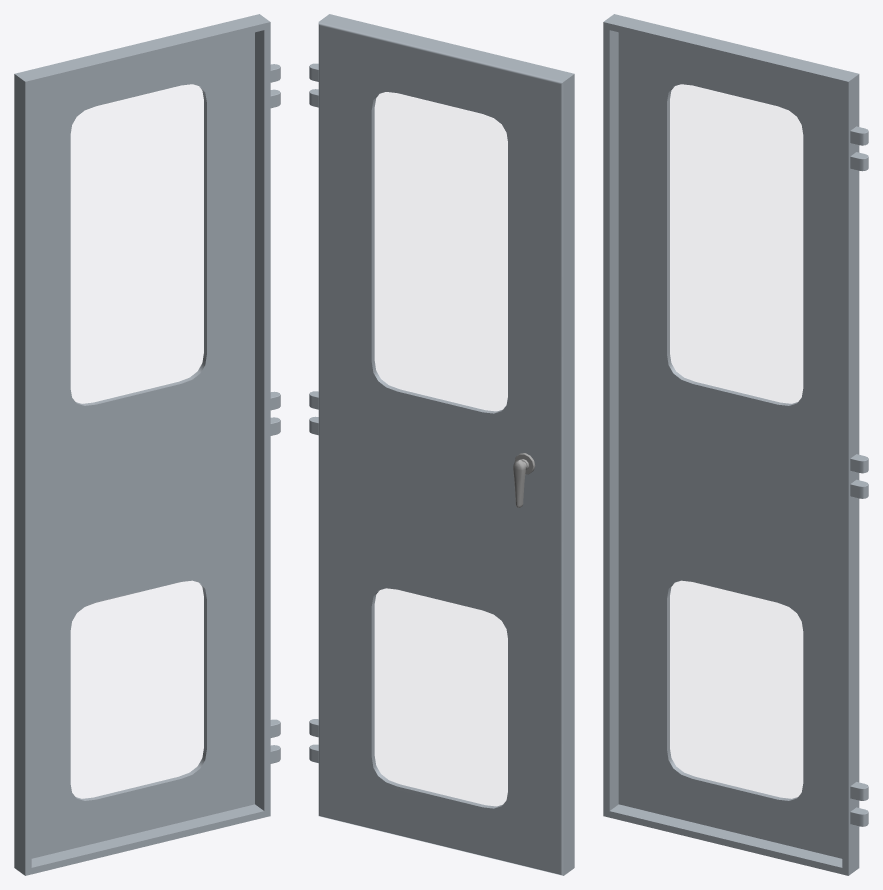
The model's file is PT_BACK_DOOR1.fbx.
3 renders of one model, left to right at view 1: azimuth 30°, elevation 25°; view 2: azimuth 150°, elevation 25°; view 3: azimuth 330°, elevation 25°, orthographic.
Visible parts, largest first — view 1: PT_BACK_DOOR1; view 2: PT_BACK_DOOR1; view 3: PT_BACK_DOOR1.
Part boxes in pixels (left/top/right/bottom): PT_BACK_DOOR1: left=14, top=14, right=280, bottom=875; PT_BACK_DOOR1: left=309, top=14, right=574, bottom=875; PT_BACK_DOOR1: left=603, top=14, right=868, bottom=875.
Size of the model in its own units: 0.6334 by 1.85 by 0.0875.
2 materials, 1 textured.
